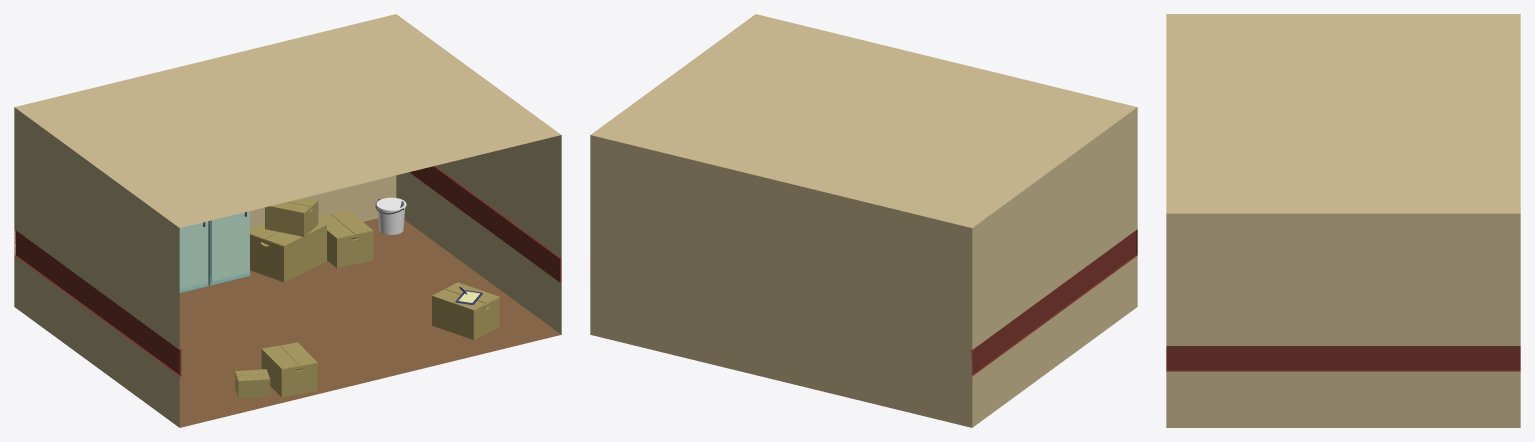
The picture shows the model from 3 angles, left to right: view 1: azimuth 30°, elevation 25°; view 2: azimuth 150°, elevation 25°; view 3: azimuth 270°, elevation 25°; orthographic projection. The views are drawn at different scales.
Parts seen in each view (by area): view 1: Cube.152, Cube.166, Cube.164, Cube.160, Cube.172, Cube.168, Cube.158, Cube.167, Cube.173, Cylinder.082; view 2: Cube.152; view 3: Cube.152.
Part boxes in pixels (left/top/right/bottom): Cube.152: left=14, top=14, right=561, bottom=427; Cube.166: left=250, top=221, right=326, bottom=282; Cube.164: left=432, top=282, right=499, bottom=339; Cube.160: left=210, top=211, right=249, bottom=281; Cube.172: left=261, top=342, right=317, bottom=397; Cube.168: left=318, top=210, right=373, bottom=267; Cube.158: left=179, top=221, right=207, bottom=289; Cube.167: left=265, top=198, right=318, bottom=236; Cube.173: left=235, top=369, right=270, bottom=398; Cylinder.082: left=376, top=197, right=406, bottom=234; Cube.152: left=590, top=14, right=1137, bottom=427; Cube.152: left=1166, top=14, right=1520, bottom=427.
Size of the model in its own units: 800 by 401 by 600.
